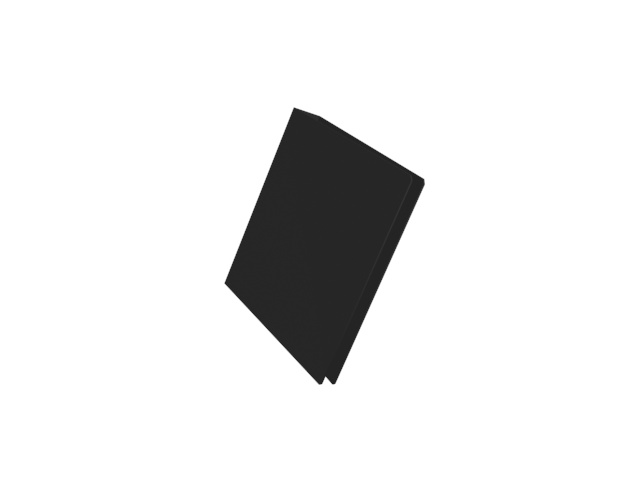ring_binder: (225, 105, 432, 392)
